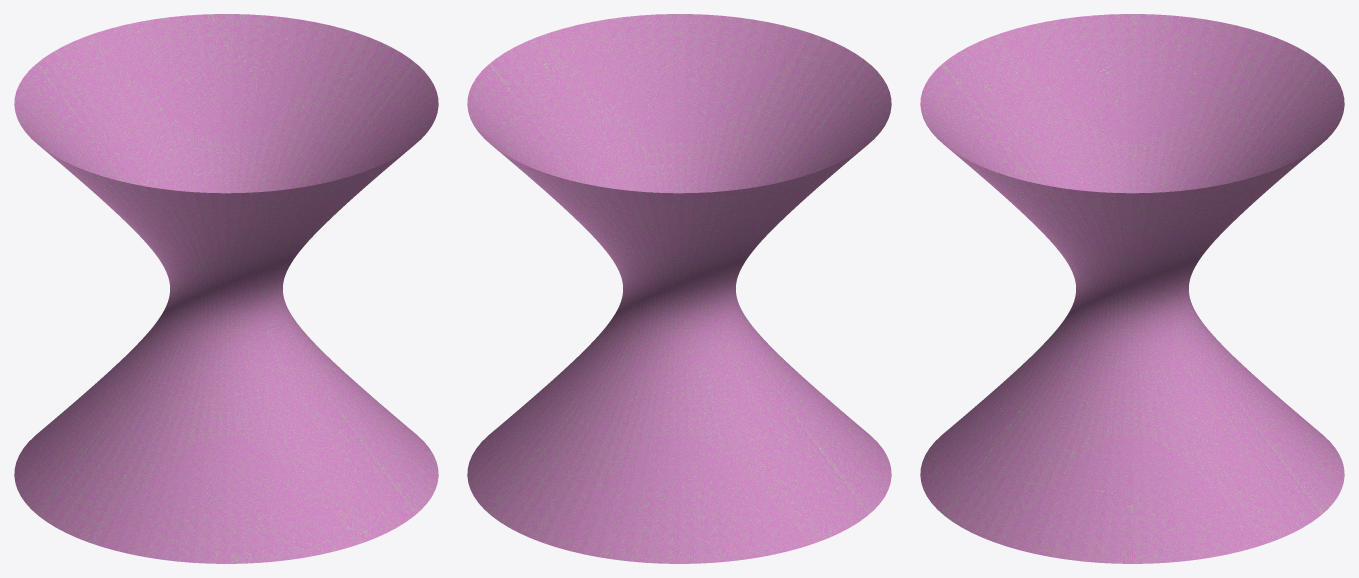
Rendered from hyper_1hoja_v2.fbx.
The picture shows the model from 3 angles, left to right: view 1: azimuth 30°, elevation 25°; view 2: azimuth 150°, elevation 25°; view 3: azimuth 270°, elevation 25°; orthographic projection.
Parts seen in each view (by area): view 1: hyp_cara_in; view 2: hyp_cara_in; view 3: hyp_cara_in.
Boxes of the visible parts, x1,y1,x2,y2 form: hyp_cara_in: (14, 14, 438, 563); hyp_cara_in: (467, 14, 891, 563); hyp_cara_in: (920, 14, 1344, 563).
Size of the model in its own units: 752 by 725 by 752.
